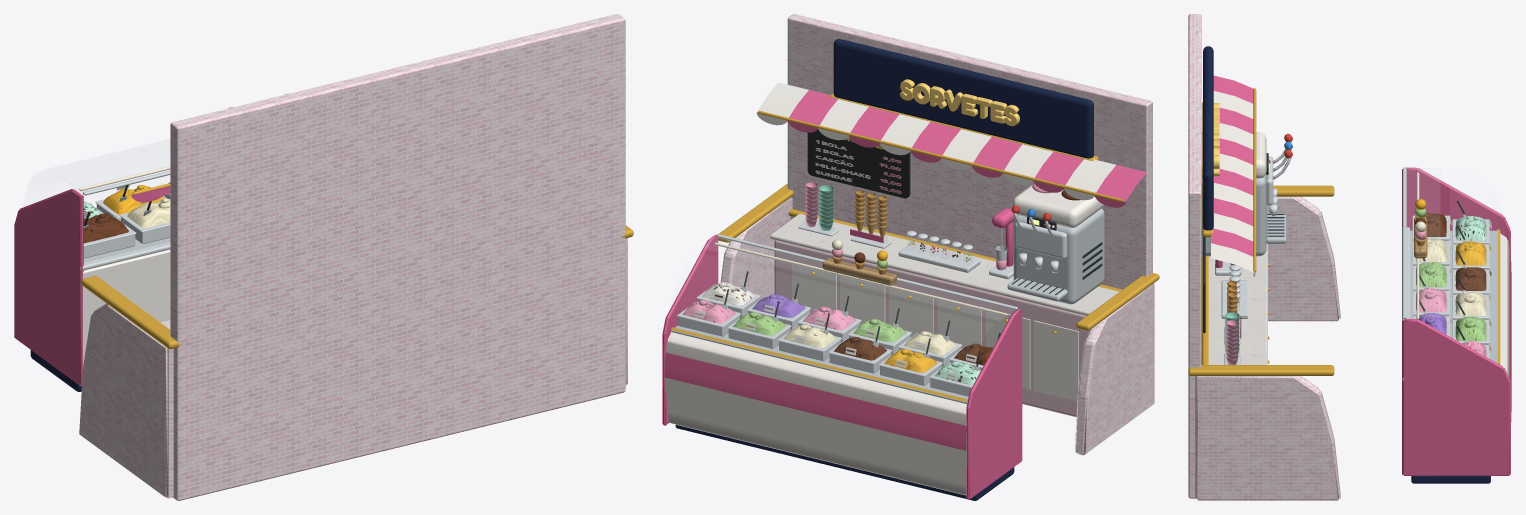
Rendered from sector-sorvetes.fbx.
3 renders of one model, left to right at view 1: azimuth 30°, elevation 25°; view 2: azimuth 150°, elevation 25°; view 3: azimuth 270°, elevation 25°, orthographic. The views are drawn at different scales.
Parts seen in each view (by area): view 1: Body, Anim Fill 2, Anim Fill 3; view 2: Body, Anim Fill 0, Anim Fill 2, Anim Fill 1, Anim Fill 3; view 3: Body, Anim Fill 2, Anim Fill 1, Anim Fill 0, Anim Fill 3.
Boxes of the visible parts, <box> form: Body: <box>14,14,633,500</box>; Anim Fill 2: <box>95,182,170,243</box>; Anim Fill 3: <box>83,201,136,258</box>; Body: <box>662,14,1159,500</box>; Anim Fill 0: <box>677,271,810,348</box>; Anim Fill 2: <box>828,308,962,385</box>; Anim Fill 1: <box>778,296,861,361</box>; Anim Fill 3: <box>929,333,1000,396</box>; Body: <box>1188,14,1511,500</box>; Anim Fill 2: <box>1412,225,1489,294</box>; Anim Fill 1: <box>1412,274,1489,319</box>; Anim Fill 0: <box>1412,299,1489,358</box>; Anim Fill 3: <box>1412,200,1489,244</box>.
Bounding box in the file's own units: 3.32 × 2.55 × 2.44.
